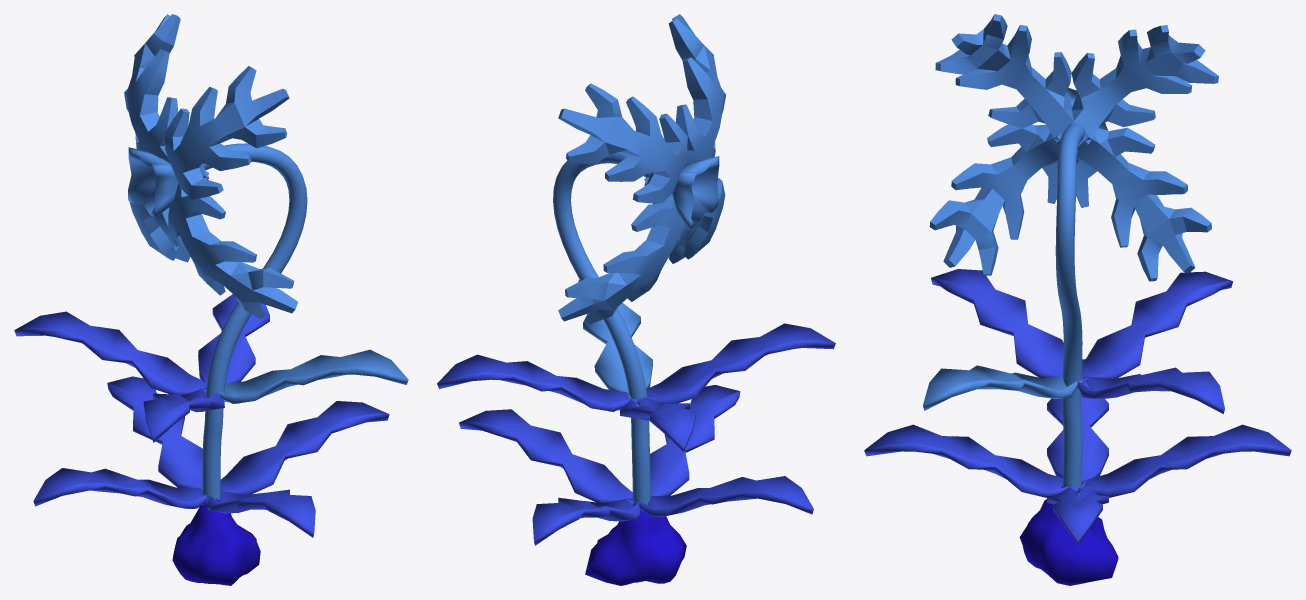
Rendered from frost flower melebur.fbx.
3 renders of one model, left to right at view 1: azimuth 30°, elevation 25°; view 2: azimuth 150°, elevation 25°; view 3: azimuth 270°, elevation 25°, orthographic. The views are drawn at different scales.
Parts seen in each view (by area): view 1: Cube, BézierCurve, rock, Plane.003, Plane.004, Plane.006, Plane, Plane.001, Cube.002, Plane.002, Plane.005, Plane.007; view 2: Cube, BézierCurve, rock, Plane.003, Plane.007, Plane.005, Plane.002, Plane.001, Plane, Cube.002, Plane.006, Plane.004; view 3: Cube, BézierCurve, Plane.004, Plane.007, rock, Plane, Plane.002, Plane.006, Plane.005, Plane.001, Plane.003.
Boxes of the visible parts, x1,y1,x2,y2 form: Cube: [124, 14, 297, 319]; BézierCurve: [202, 143, 307, 505]; rock: [172, 499, 260, 585]; Plane.003: [220, 401, 389, 495]; Plane.004: [14, 311, 207, 395]; Plane.006: [219, 349, 408, 403]; Plane: [107, 376, 202, 490]; Plane.001: [33, 468, 206, 508]; Cube.002: [128, 147, 178, 218]; Plane.002: [207, 489, 315, 537]; Plane.005: [198, 294, 269, 398]; Plane.007: [143, 388, 224, 442]; Cube: [558, 14, 726, 324]; BézierCurve: [553, 151, 651, 504]; rock: [585, 510, 686, 585]; Plane.003: [459, 409, 647, 513]; Plane.007: [637, 323, 835, 404]; Plane.005: [437, 354, 637, 411]; Plane.002: [628, 385, 740, 510]; Plane.001: [633, 476, 813, 516]; Plane: [532, 497, 640, 545]; Cube.002: [672, 156, 719, 229]; Plane.006: [578, 279, 652, 406]; Plane.004: [620, 397, 696, 452]; Cube: [929, 14, 1218, 281]; BézierCurve: [1055, 123, 1085, 487]; Plane.004: [1066, 271, 1232, 387]; Plane.007: [931, 269, 1089, 387]; rock: [1019, 486, 1118, 585]; Plane: [1078, 424, 1291, 497]; Plane.002: [864, 424, 1077, 497]; Plane.006: [923, 365, 1081, 410]; Plane.005: [1077, 367, 1224, 414]; Plane.001: [1047, 359, 1108, 498]; Plane.003: [1047, 486, 1108, 545].
Size of the model in its own units: 771 by 1114 by 771.
